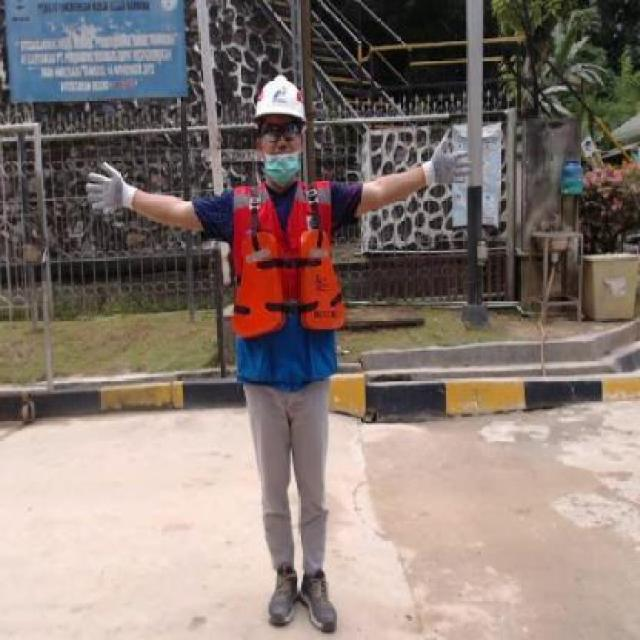Boots: (298, 572, 338, 633), (267, 564, 298, 627)
Gloves: (419, 130, 476, 196), (85, 157, 138, 218)
Helmet: (255, 75, 307, 120)
Mask: (262, 151, 300, 184)
Protective Glasses: (261, 122, 301, 142)
Vest: (230, 230, 348, 336)
